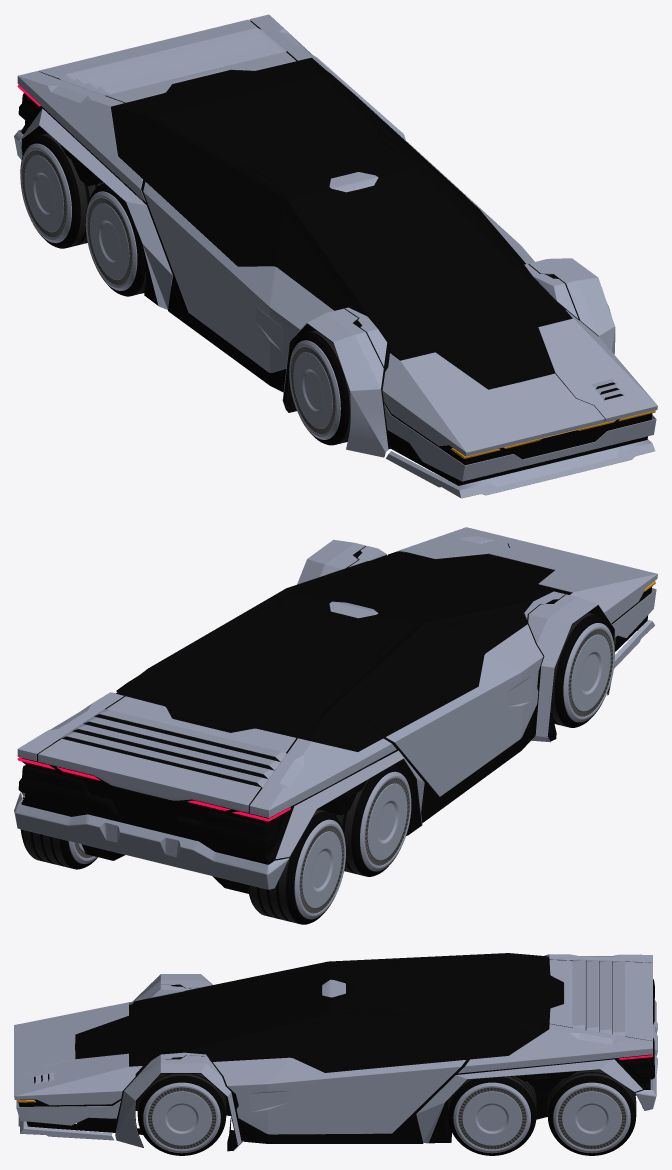
Rendered from sci-fi_vehicle_027_LV.fbx.
The picture shows the model from 3 angles, top to bottom: view 1: azimuth 30°, elevation 25°; view 2: azimuth 150°, elevation 25°; view 3: azimuth 270°, elevation 25°; orthographic projection. The views are drawn at different scales.
Parts seen in each view (by area): view 1: blocker.020, blocker.031, blocker.021, blocker.038, blocker.018, blocker.025, blocker.028, blocker.029, blocker.039, blocker.035, blocker.019, blocker.037 (+17 smaller); view 2: blocker.020, blocker.018, blocker.021, blocker.035, blocker.034, blocker.031, blocker.028, blocker.038, blocker.029, blocker.024, blocker.025, blocker.039 (+21 smaller); view 3: blocker.020, blocker.021, blocker.031, blocker.018, blocker.028, blocker.025, blocker.038, blocker.029, blocker.035, blocker.039, Plane.010, Plane.020 (+23 smaller).
Part boxes in pixels (bbox=[...]): blocker.020: bbox=[116, 60, 564, 385]; blocker.031: bbox=[382, 310, 657, 456]; blocker.021: bbox=[143, 123, 534, 372]; blocker.038: bbox=[282, 258, 615, 457]; blocker.018: bbox=[21, 21, 652, 465]; blocker.025: bbox=[116, 60, 568, 356]; blocker.028: bbox=[17, 14, 390, 202]; blocker.029: bbox=[60, 28, 286, 95]; blocker.039: bbox=[20, 56, 405, 309]; blocker.035: bbox=[38, 19, 295, 102]; blocker.019: bbox=[384, 404, 656, 481]; blocker.037: bbox=[386, 439, 655, 498]; blocker.020: bbox=[119, 552, 564, 749]; blocker.018: bbox=[21, 543, 652, 864]; blocker.021: bbox=[386, 624, 543, 796]; blocker.035: bbox=[38, 696, 296, 812]; blocker.034: bbox=[14, 792, 289, 889]; blocker.031: bbox=[397, 527, 657, 622]; blocker.028: bbox=[17, 692, 396, 817]; blocker.038: bbox=[297, 539, 615, 742]; blocker.029: bbox=[60, 709, 286, 787]; blocker.024: bbox=[18, 765, 283, 851]; blocker.025: bbox=[116, 551, 569, 743]; blocker.039: bbox=[21, 750, 424, 859]; blocker.020: bbox=[78, 956, 561, 1068]; blocker.021: bbox=[213, 1057, 465, 1134]; blocker.031: bbox=[14, 1001, 142, 1105]; blocker.018: bbox=[18, 956, 650, 1141]; blocker.028: bbox=[458, 954, 652, 1073]; blocker.025: bbox=[133, 953, 545, 1065]; blocker.038: bbox=[115, 974, 243, 1151]; blocker.029: bbox=[573, 959, 625, 1036]; blocker.035: bbox=[549, 960, 652, 1040]; blocker.039: bbox=[416, 1059, 642, 1143]; Plane.010: bbox=[152, 1091, 211, 1145]; Plane.020: bbox=[562, 1091, 621, 1145].
Size of what is drawn, in the model's own units: 221 by 120 by 581.
